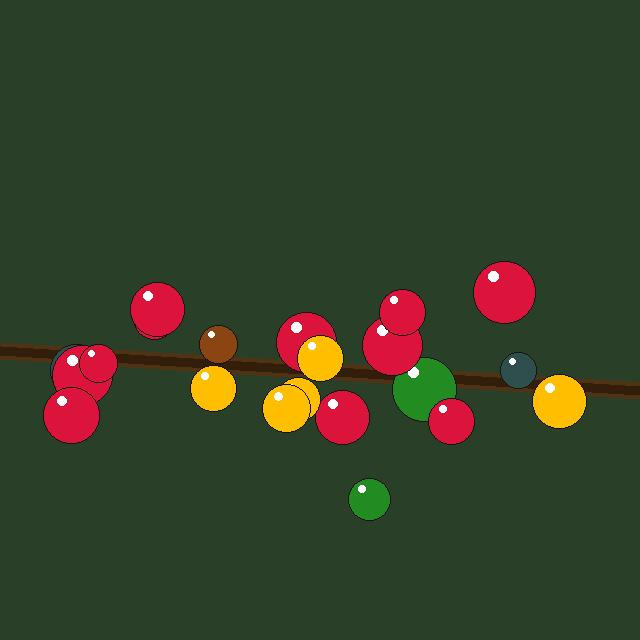Dry_Damaged: (50, 344, 102, 396), (500, 352, 536, 388)
Overripe: (199, 325, 237, 363)
Ripe: (473, 261, 535, 323), (276, 312, 336, 372), (52, 345, 112, 405), (362, 315, 422, 375), (43, 387, 99, 443), (315, 390, 369, 444), (130, 282, 184, 336), (379, 289, 425, 335), (428, 398, 474, 444), (133, 297, 175, 339), (79, 344, 117, 382)
Ripening: (532, 374, 586, 428), (262, 384, 310, 432), (297, 335, 343, 381), (190, 365, 236, 411), (276, 377, 320, 421)
Unripe: (392, 357, 456, 421), (348, 478, 390, 520)
